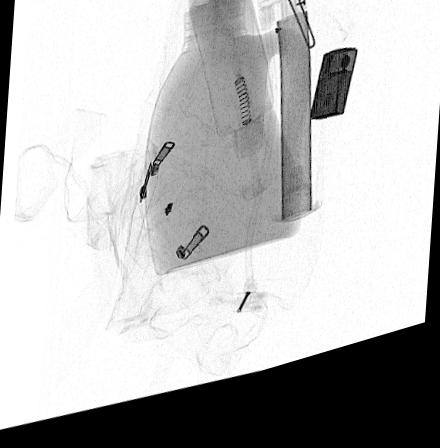Lighter: (308, 67, 358, 138)
